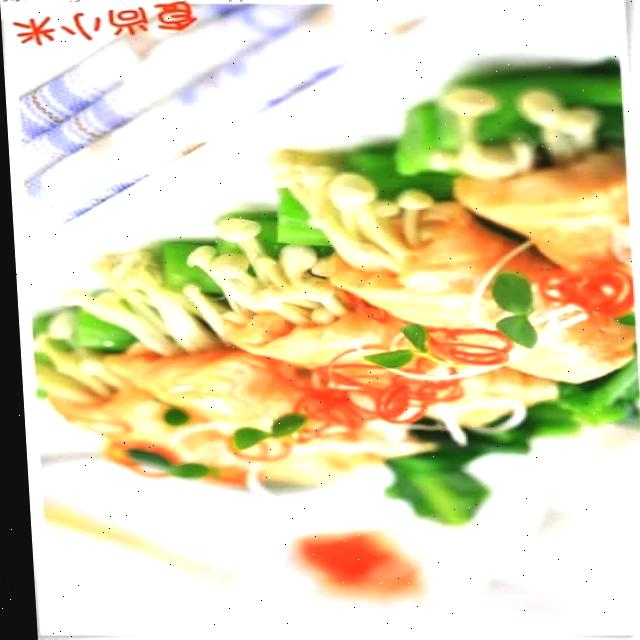熟制海鲜: (17, 28, 640, 618)
